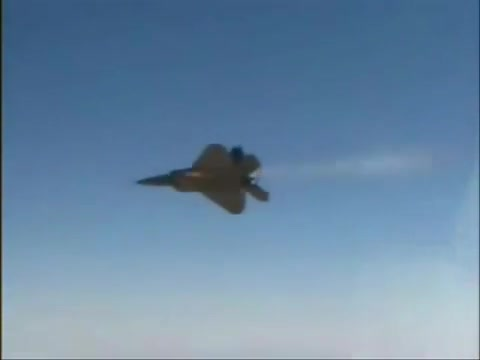aeroplane: (137, 144, 271, 216)
